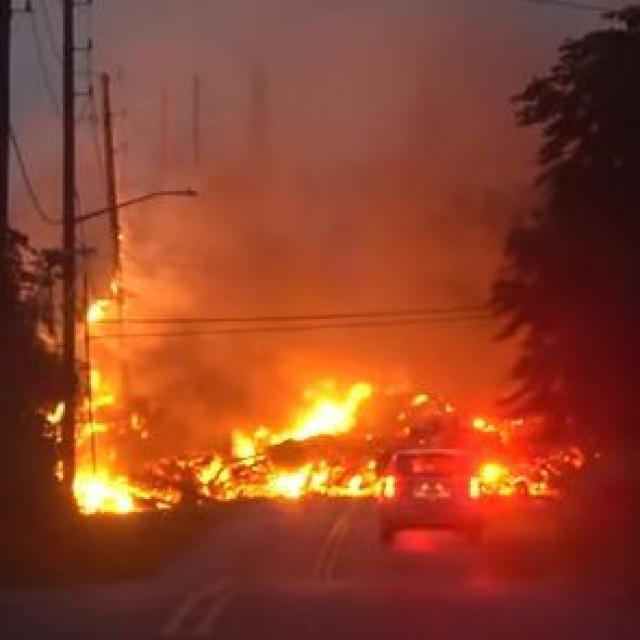Fire: (60, 298, 556, 508)
Smoke: (122, 0, 548, 401)
